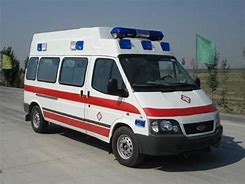specialcar: (20, 28, 224, 171)
